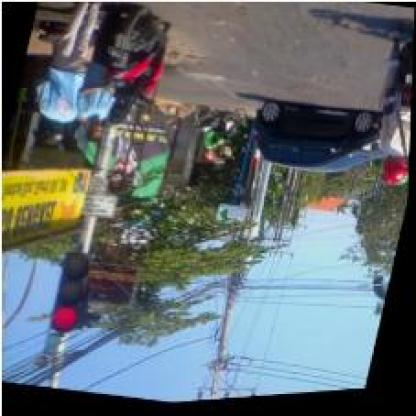red: (50, 250, 94, 333)
